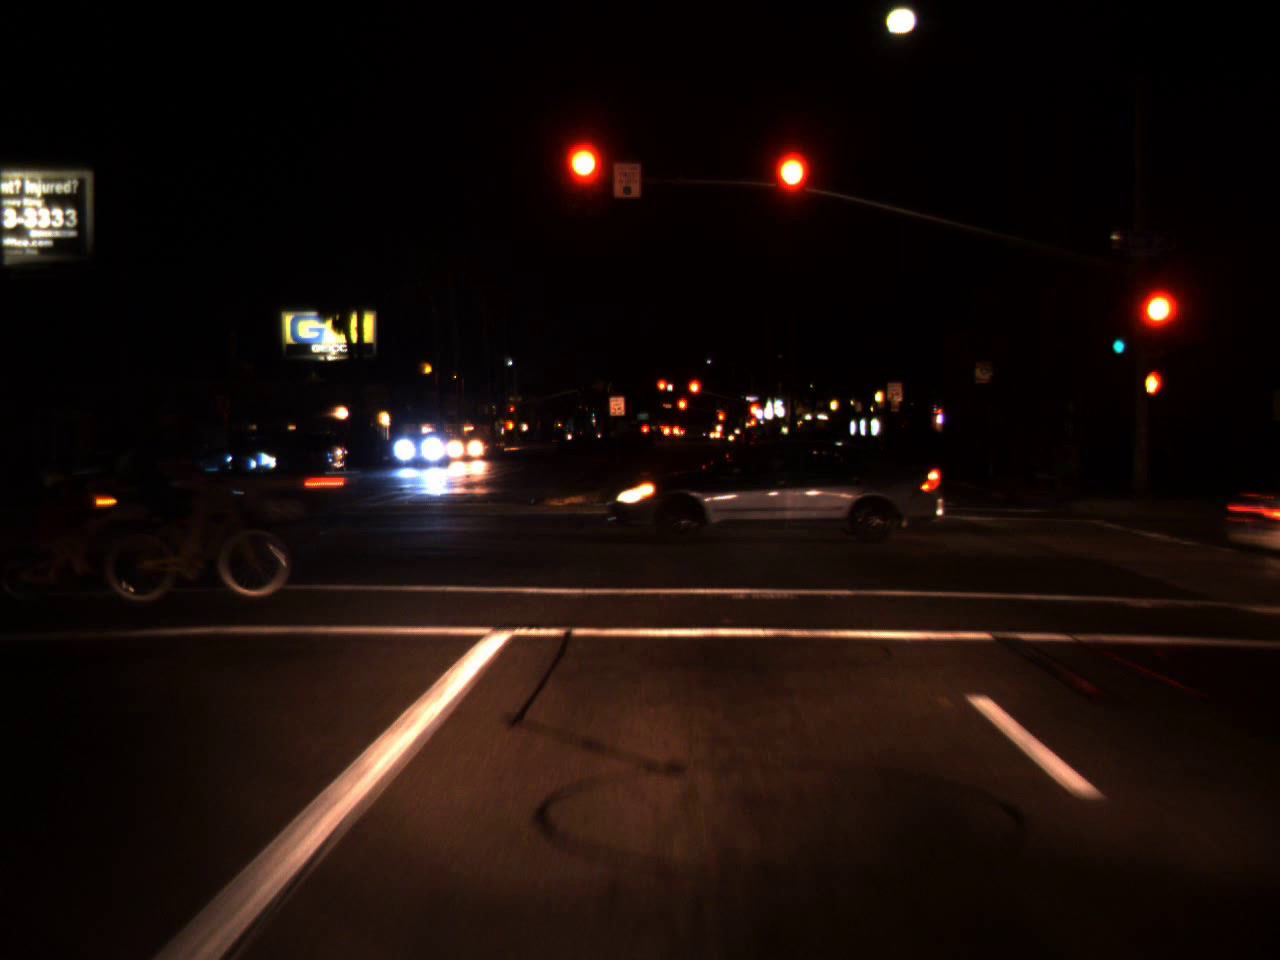stop: (1138, 288, 1177, 366), (773, 153, 809, 223), (566, 145, 600, 217), (745, 400, 761, 432), (686, 378, 701, 407), (677, 397, 689, 424), (656, 376, 668, 400), (504, 402, 516, 423), (716, 410, 725, 431)
